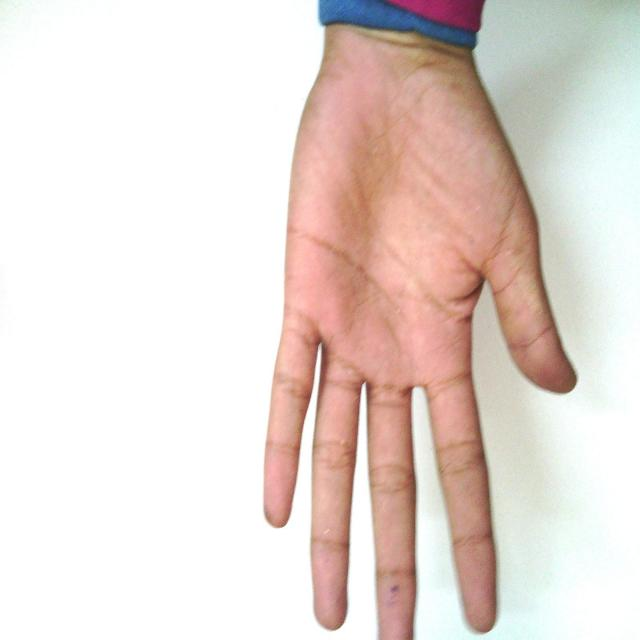others: (193, 0, 592, 640)
